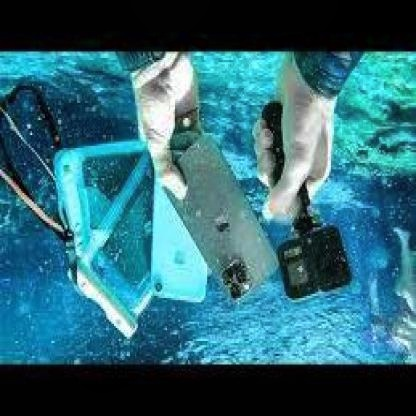cellphone: (162, 135, 281, 307), (151, 148, 209, 307)
electronics: (276, 223, 354, 302)
